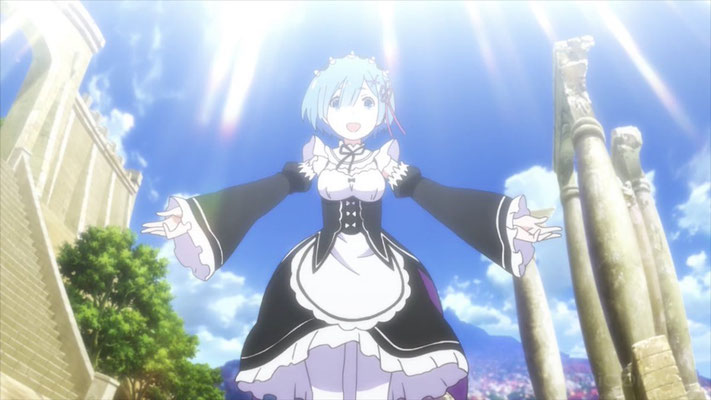rem: (150, 46, 543, 400)
